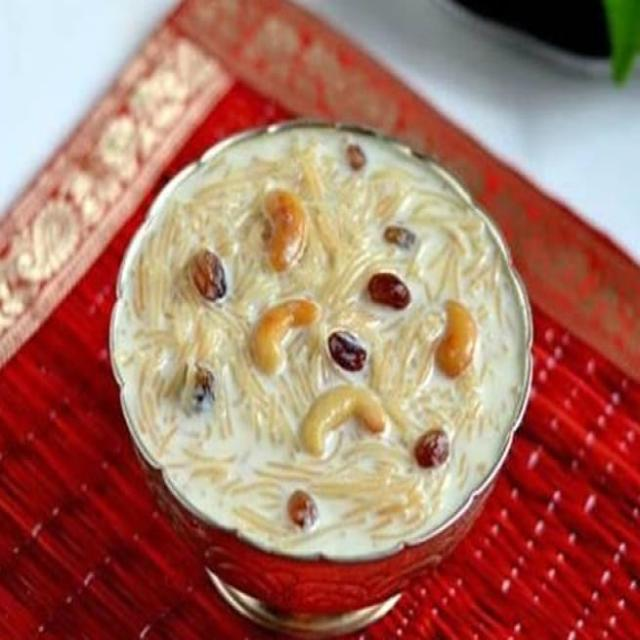shavige payasa: (105, 114, 549, 557)
